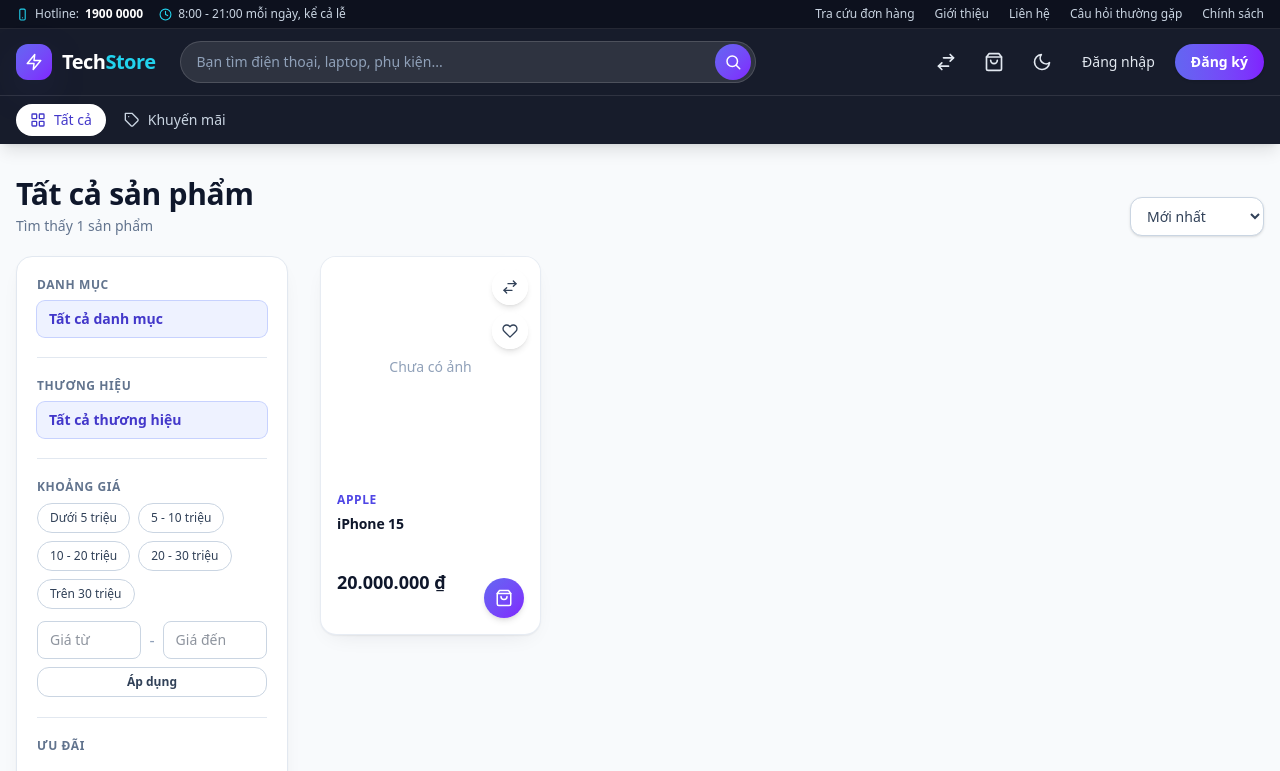
Scenario: Khách chưa đăng nhập thêm vào giỏ › thêm lại cùng sản phẩm thì cộng dồn số lượng
The width and height of the screenshot is (1280, 771).
Step 1. Click the button named "Thêm iPhone 15 vào giỏ" → (504, 598), box [484,578,524,618]
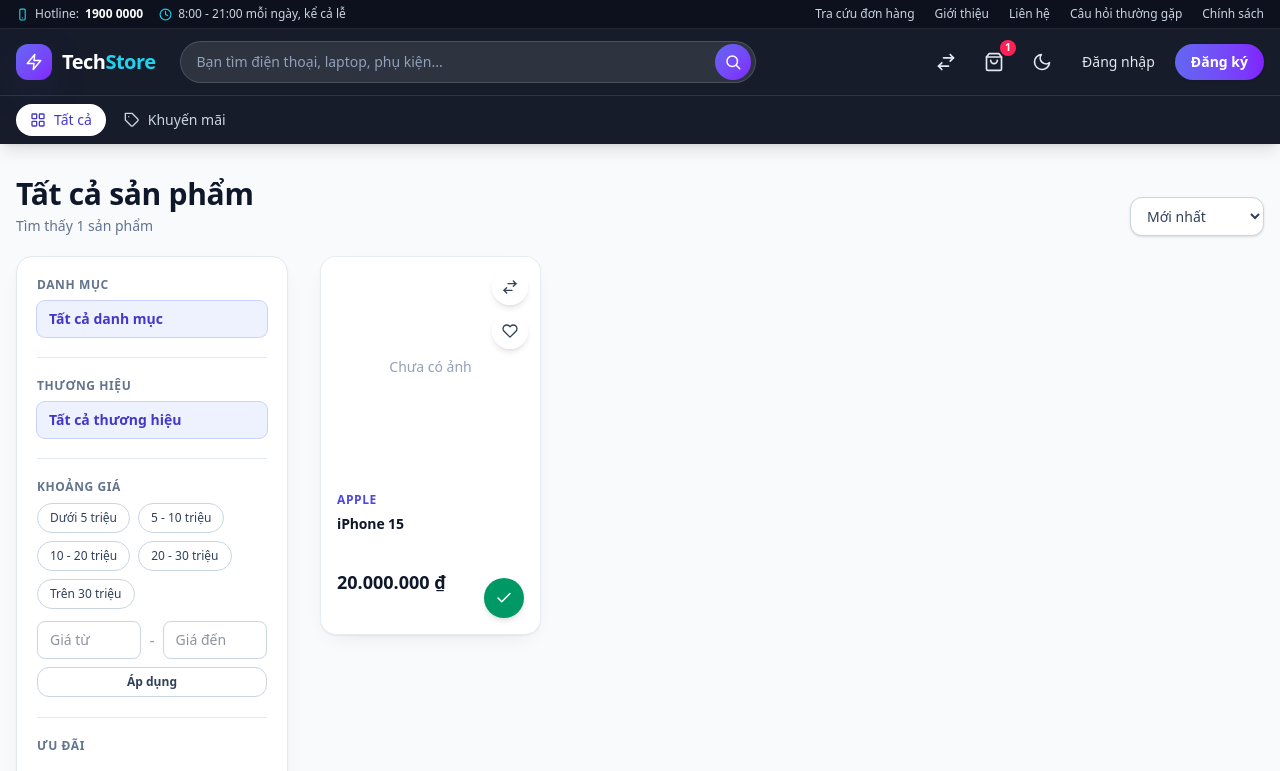
Result: the link named "Giỏ hàng (1)" is shown at [984,40,1016,72]
Step 2. Click the button named "Thêm iPhone 15 vào giỏ" → (504, 598), box [484,578,524,618]
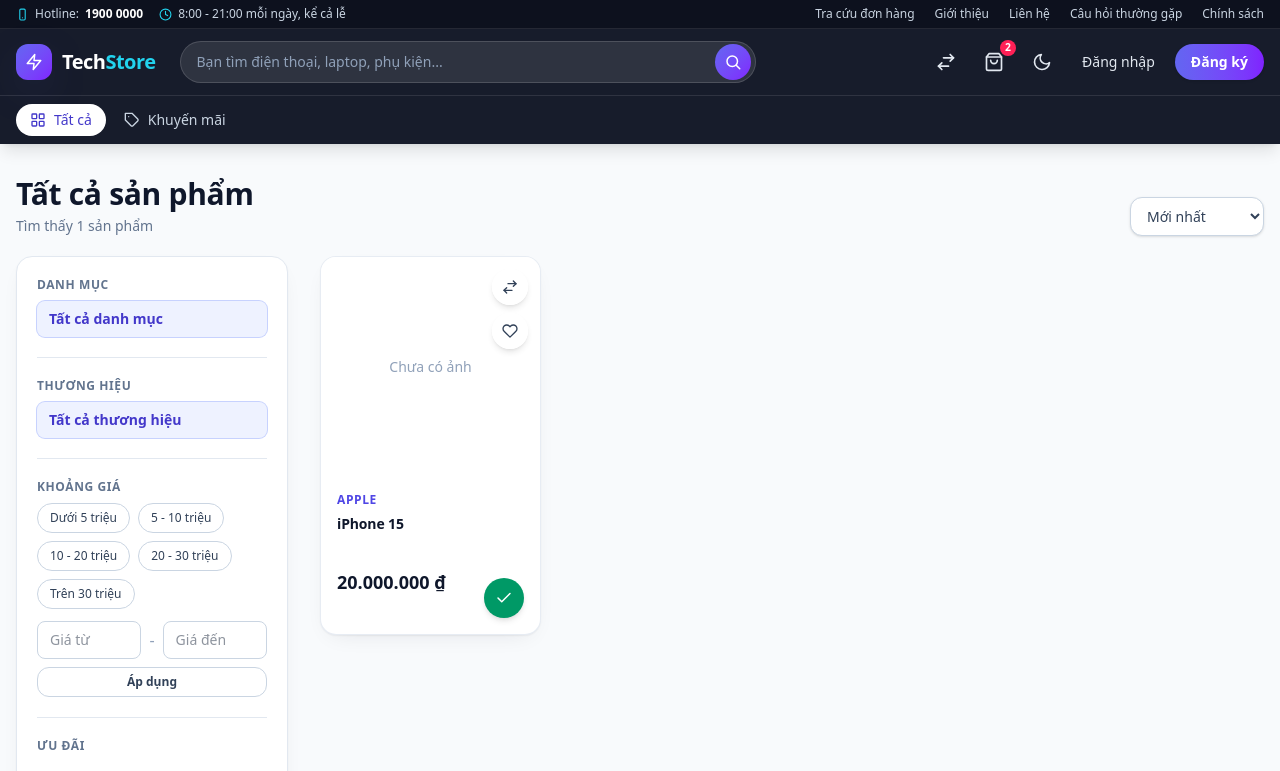
Result: the link named "Giỏ hàng (2)" is shown at [984,40,1016,72]
